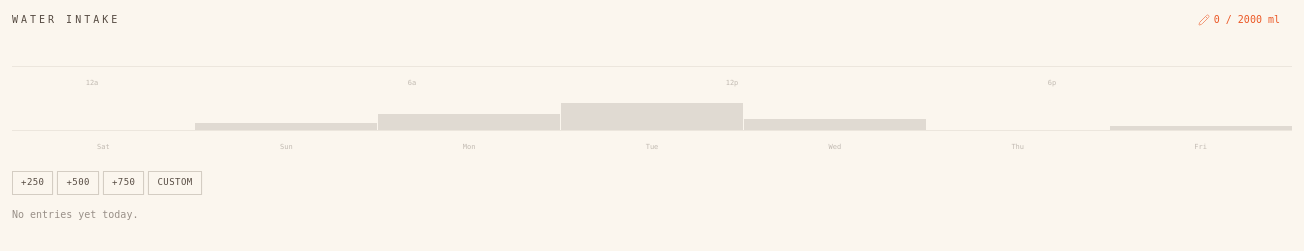
Test case: WaterTracker › goal editing › clicking the ml display enters goal-edit mode
Click the button "0 / 2000 ml": (1239, 20) [1186,12,1292,27]
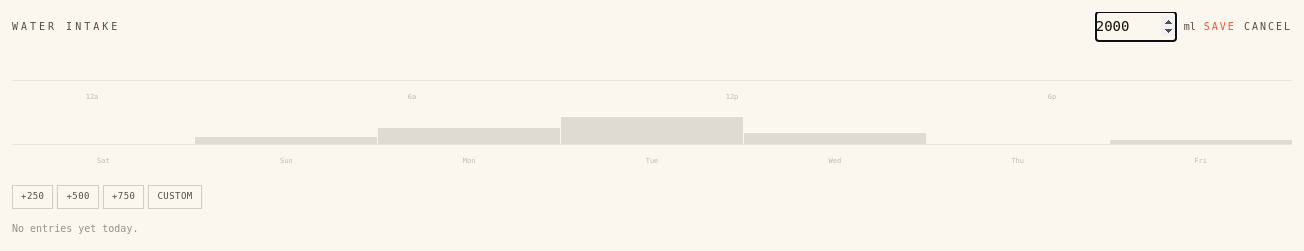
Check: the number field named "Daily water goal in ml" is shown, box [1096,12,1176,41]
